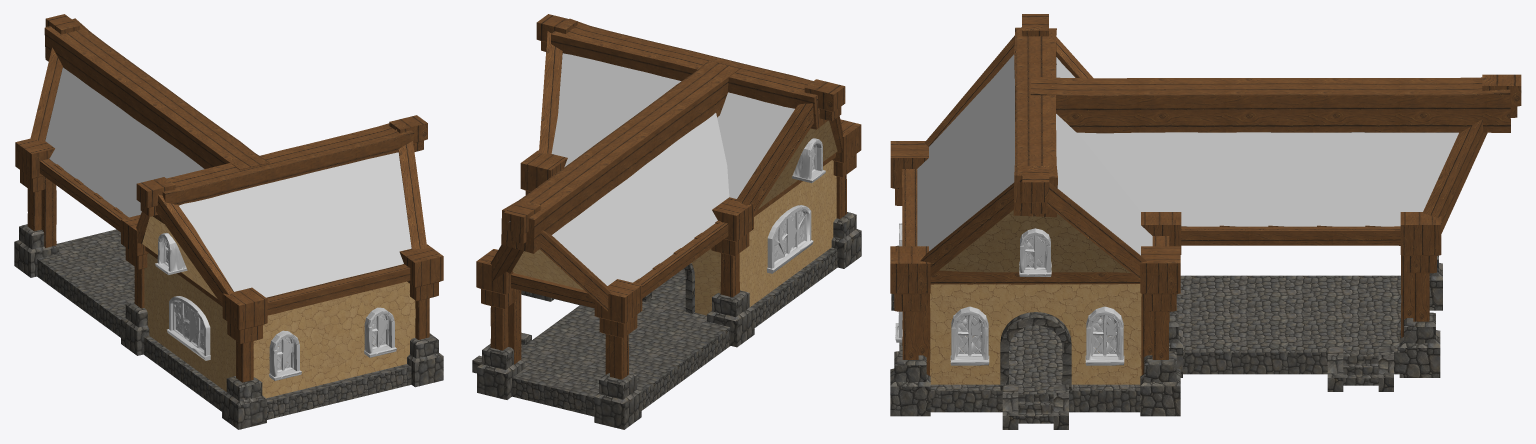
File: HouseTest3.fbx
3 renders of one model, left to right at view 1: azimuth 30°, elevation 25°; view 2: azimuth 150°, elevation 25°; view 3: azimuth 270°, elevation 25°, orthographic. The views are drawn at different scales.
Visible parts, largest first — view 1: Plane, StoneFoundation, Plane.003, ClayWall.001, WoodenBeam.024, WoodenBeam.001, ClayWall.002, WoodenBeam.004, WoodenBeam.011, WoodenSupportFoundation.004, StonePillarFoundation.003, mesh_node.006 (+21 smaller); view 2: StoneFoundation, Plane.003, Plane.001, WoodenBeam.024, WoodenBeam.001, ClayWall.002, WoodenBeam.010, StonePillarFoundation.004, mesh_node.006, WoodenSupportFoundation.007, WoodenBeam.017, StonePillarFoundation.005 (+23 smaller); view 3: StoneFoundation, Plane.002, WoodenBeam.024, WoodenWall.004, Plane, WoodenBeam.001, ClayWall.006, Plane.001, WoodenBeam.019, WoodenBeam.025, WoodenBeam, WoodenSupportFoundation.003 (+29 smaller).
Boxes of the visible parts, bbox=[...] form: Plane: bbox=[179, 152, 411, 297]; StoneFoundation: bbox=[37, 229, 411, 419]; Plane.003: bbox=[45, 67, 204, 217]; ClayWall.001: bbox=[253, 281, 415, 398]; WoodenBeam.024: bbox=[44, 18, 269, 170]; WoodenBeam.001: bbox=[153, 123, 414, 223]; ClayWall.002: bbox=[144, 253, 235, 391]; WoodenBeam.004: bbox=[266, 264, 410, 315]; WoodenBeam.011: bbox=[156, 194, 233, 305]; WoodenSupportFoundation.004: bbox=[222, 287, 267, 343]; StonePillarFoundation.003: bbox=[222, 376, 266, 429]; mesh_node.006: bbox=[167, 296, 210, 360]; StoneFoundation: bbox=[512, 247, 837, 416]; Plane.003: bbox=[508, 113, 729, 285]; Plane.001: bbox=[551, 53, 794, 198]; WoodenBeam.024: bbox=[501, 60, 739, 253]; WoodenBeam.001: bbox=[551, 18, 827, 129]; ClayWall.002: bbox=[739, 160, 836, 306]; WoodenBeam.010: bbox=[736, 96, 819, 214]; StonePillarFoundation.004: bbox=[594, 373, 641, 429]; mesh_node.006: bbox=[767, 205, 813, 273]; WoodenSupportFoundation.007: bbox=[594, 279, 642, 337]; WoodenBeam.017: bbox=[637, 222, 728, 298]; StonePillarFoundation.005: bbox=[477, 344, 524, 399]; StoneFoundation: bbox=[899, 275, 1401, 423]; Plane.002: bbox=[1078, 132, 1458, 226]; WoodenBeam.024: bbox=[1030, 76, 1510, 133]; WoodenWall.004: bbox=[930, 284, 1141, 384]; Plane: bbox=[917, 54, 1014, 250]; WoodenBeam.001: bbox=[1013, 27, 1057, 217]; ClayWall.006: bbox=[939, 210, 1130, 272]; Plane.001: bbox=[1056, 57, 1152, 255]; WoodenBeam.019: bbox=[1181, 226, 1400, 245]; WoodenBeam.025: bbox=[1422, 119, 1487, 233]; WoodenBeam: bbox=[930, 270, 1140, 284]; WoodenSupportFoundation.003: bbox=[1140, 246, 1180, 311].
Bounding box in the file's own units: 1806 × 1285 × 2861.
